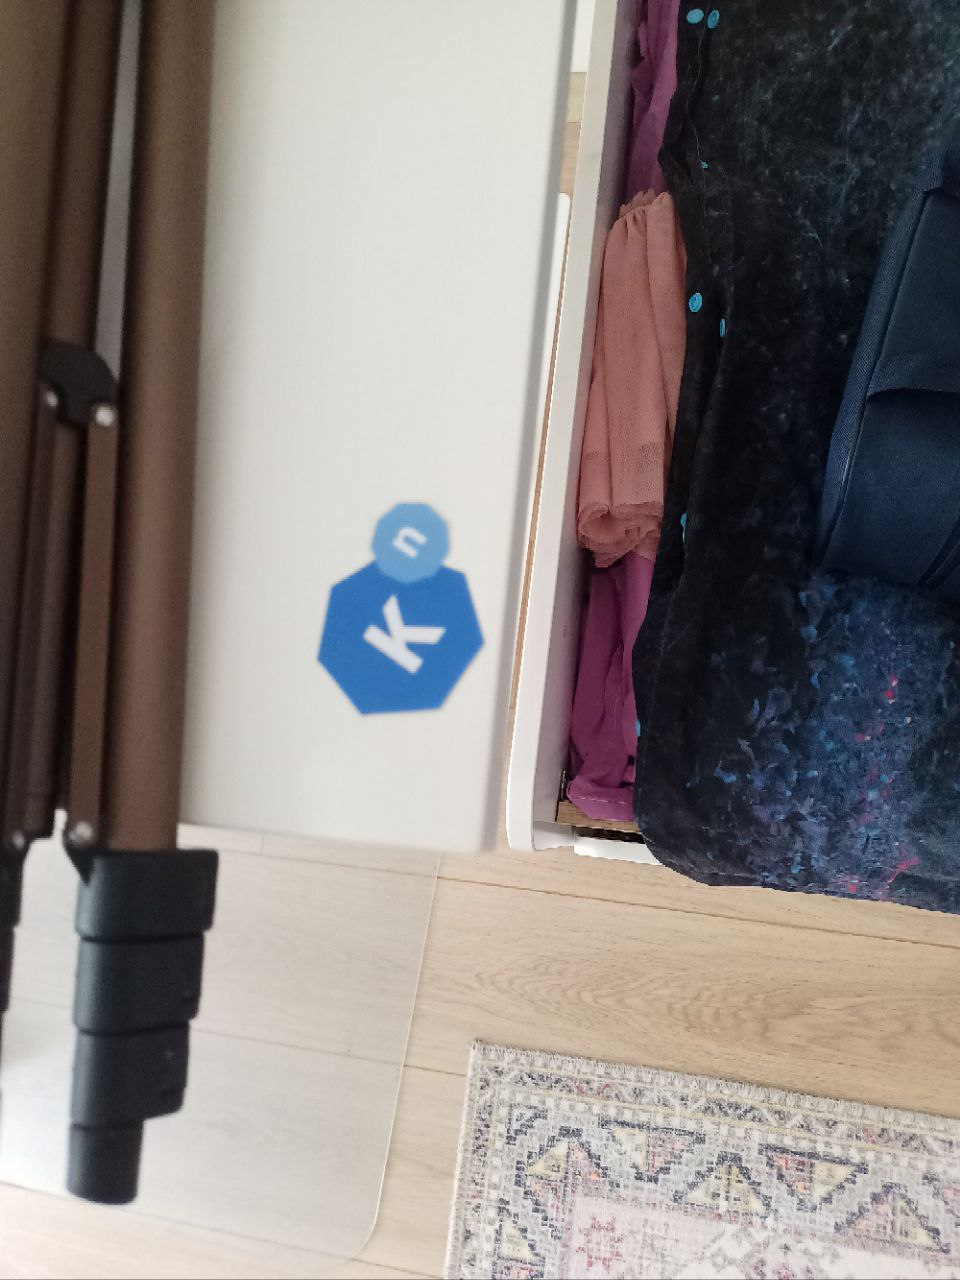knative: (316, 501, 485, 717)
